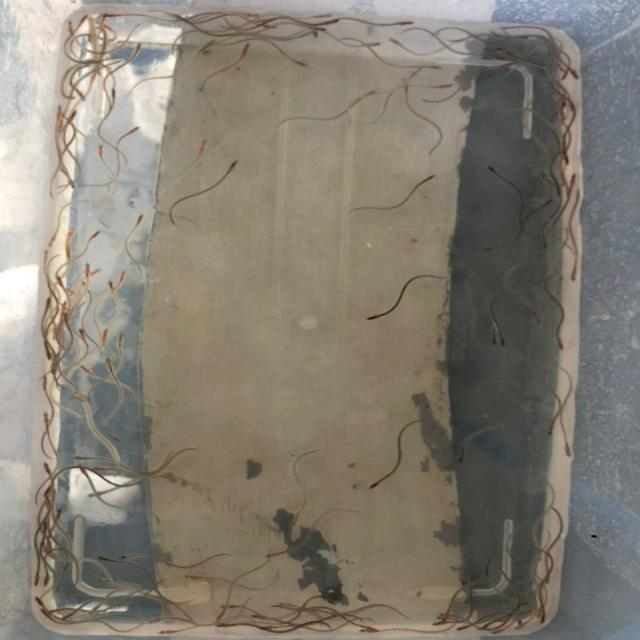glass_eel: (194, 138, 210, 163), (220, 158, 238, 180), (43, 225, 61, 247), (154, 625, 185, 637), (368, 474, 391, 490), (118, 550, 148, 562), (41, 461, 59, 481), (528, 540, 550, 556), (95, 554, 122, 567), (84, 488, 109, 502), (93, 575, 122, 587), (237, 42, 254, 62), (74, 326, 91, 346), (286, 56, 312, 69), (73, 11, 91, 29), (261, 547, 288, 559), (40, 541, 57, 560), (104, 86, 120, 106), (64, 108, 80, 128), (95, 10, 110, 31), (196, 39, 217, 54), (414, 173, 438, 186), (482, 557, 495, 581), (354, 621, 380, 633), (212, 619, 238, 631), (130, 213, 144, 235), (180, 572, 208, 583), (58, 88, 77, 104), (507, 553, 526, 569), (59, 312, 75, 331), (416, 63, 446, 73), (62, 18, 76, 39), (215, 602, 244, 612), (274, 601, 300, 612), (552, 332, 567, 351), (70, 390, 89, 405), (63, 226, 77, 246), (233, 10, 261, 20), (404, 66, 424, 80), (38, 607, 58, 621), (131, 39, 144, 60), (52, 104, 65, 125), (120, 125, 141, 138), (456, 443, 469, 464), (362, 312, 392, 321), (512, 617, 530, 632), (529, 604, 547, 619), (61, 609, 80, 623), (561, 437, 573, 459), (103, 355, 115, 377), (70, 455, 99, 464), (387, 36, 407, 49), (476, 619, 496, 632), (54, 276, 70, 292), (73, 85, 88, 102), (529, 307, 544, 324), (92, 465, 115, 476), (496, 330, 510, 348), (545, 420, 559, 438), (41, 410, 55, 428), (97, 328, 109, 349), (308, 18, 343, 25), (357, 40, 384, 49), (296, 30, 320, 40), (357, 90, 377, 102), (63, 174, 78, 190), (537, 197, 554, 211), (40, 297, 54, 314), (115, 268, 129, 285), (100, 11, 126, 20), (388, 18, 414, 27), (146, 615, 169, 625), (41, 373, 53, 392), (87, 228, 101, 244), (551, 266, 565, 282), (34, 595, 50, 609), (94, 142, 105, 162), (488, 626, 508, 637), (358, 624, 380, 634), (256, 622, 278, 632), (107, 278, 118, 298), (255, 21, 279, 30), (308, 12, 332, 21), (567, 172, 579, 190), (32, 570, 44, 588), (42, 342, 52, 363), (485, 164, 501, 177), (531, 548, 544, 564), (481, 243, 504, 252), (40, 570, 52, 587), (115, 330, 127, 347), (48, 357, 60, 374), (85, 266, 102, 278), (492, 46, 512, 56), (538, 605, 548, 625), (454, 623, 476, 632), (210, 610, 228, 621), (398, 78, 412, 92), (566, 66, 579, 81), (566, 268, 579, 283), (430, 83, 454, 91), (248, 613, 272, 621), (429, 619, 450, 628), (488, 330, 499, 347), (54, 506, 65, 523), (306, 25, 329, 33), (88, 602, 101, 616), (559, 67, 571, 82), (82, 262, 92, 280), (485, 53, 507, 61), (81, 364, 94, 377), (552, 182, 562, 198), (543, 570, 553, 586), (430, 615, 456, 621), (40, 520, 51, 534), (540, 235, 550, 250), (499, 60, 517, 68), (513, 614, 524, 627), (437, 610, 457, 617), (51, 606, 67, 614), (561, 150, 570, 164)
